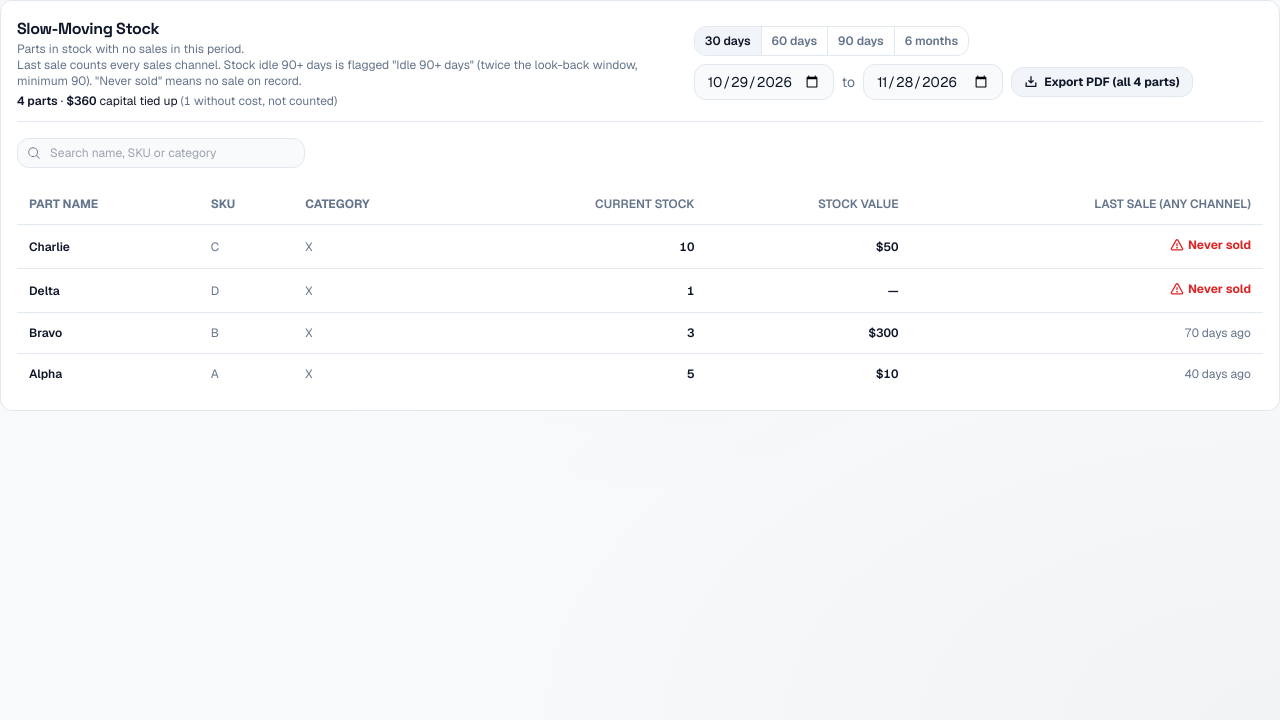
Slow-moving summary follows the search › shows matching parts and their capital while a search is active
Type "bravo" into the search field named "Search parts". click: (161, 153)
box: [17,138,305,168]
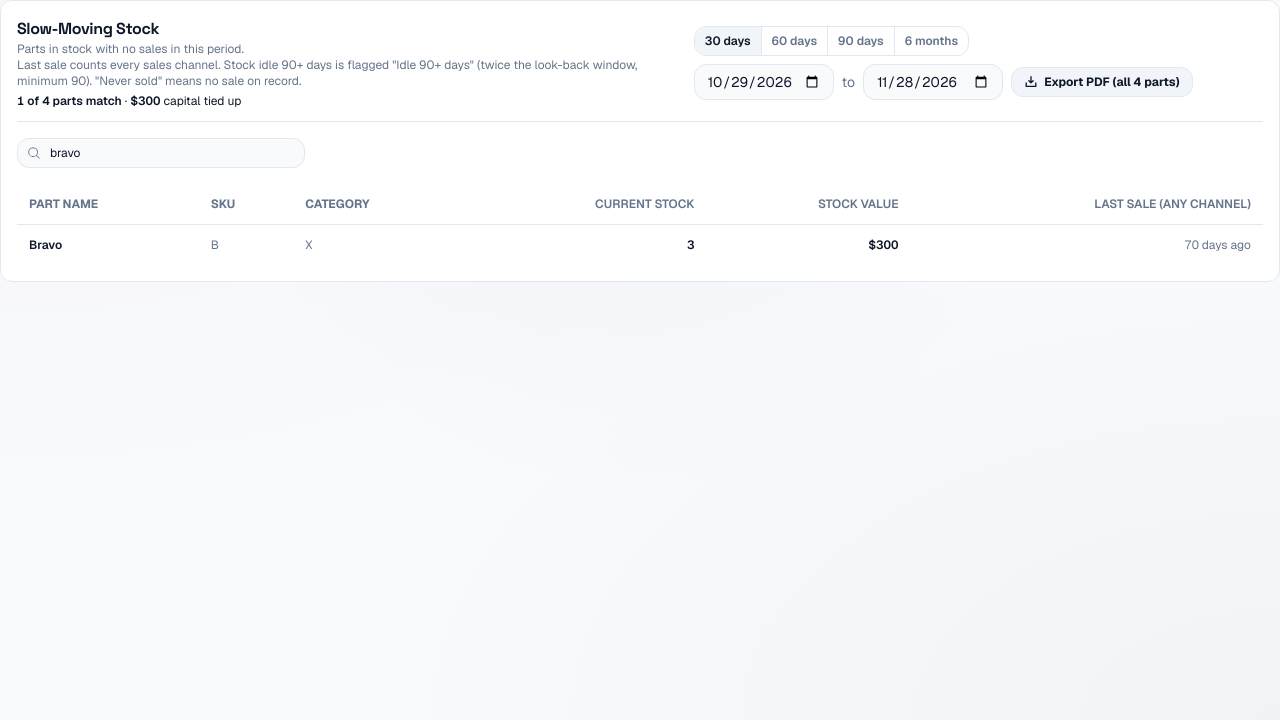
Check: the text "1 of 4 parts match · $300 capital tied up" is shown, box [17,93,242,109]
